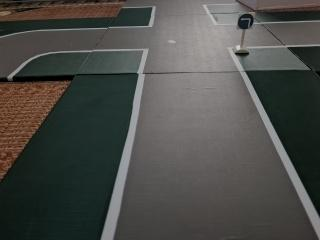left: (236, 11, 255, 33)
